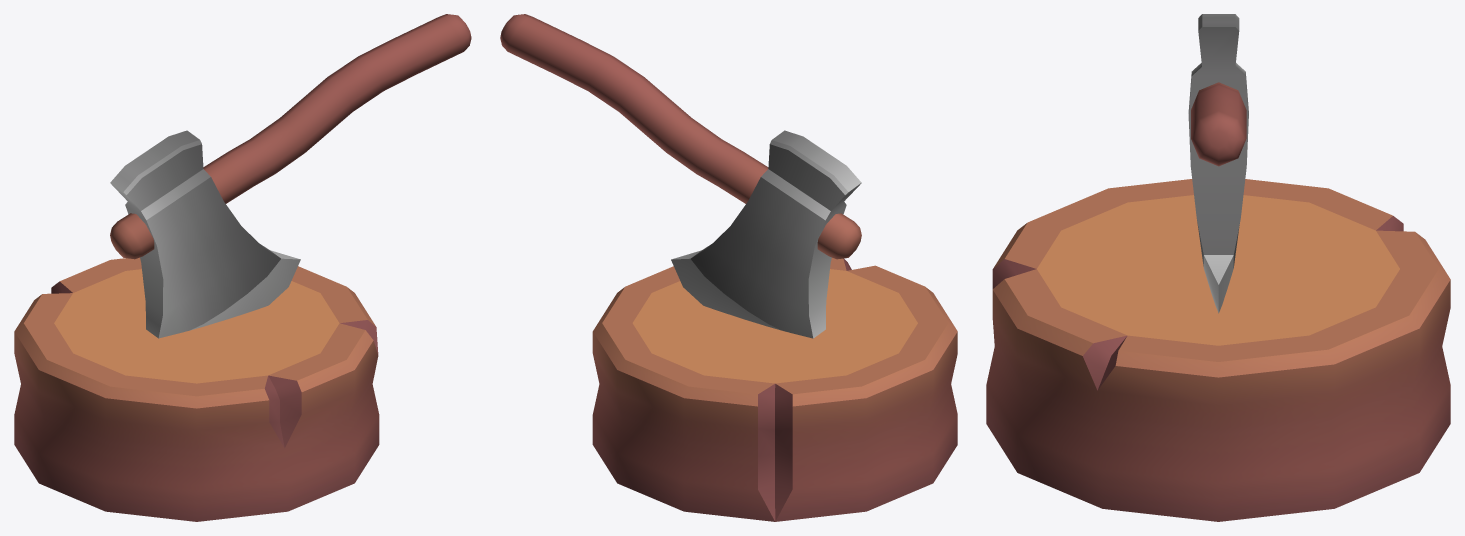
The model's file is Log.fbx.
3 views of the same model, side by side, from view 1: azimuth 30°, elevation 25°; view 2: azimuth 150°, elevation 25°; view 3: azimuth 270°, elevation 25° (orthographic). The views are drawn at different scales.
Parts seen in each view (by area): view 1: Log; view 2: Log; view 3: Log.
Boxes of the visible parts, x1,y1,x2,y2 form: Log: (14, 14, 471, 521); Log: (500, 14, 957, 521); Log: (986, 14, 1450, 521).
Size of the model in its own units: 141 by 115 by 103.
Materials: 1 (1 with a texture image).
